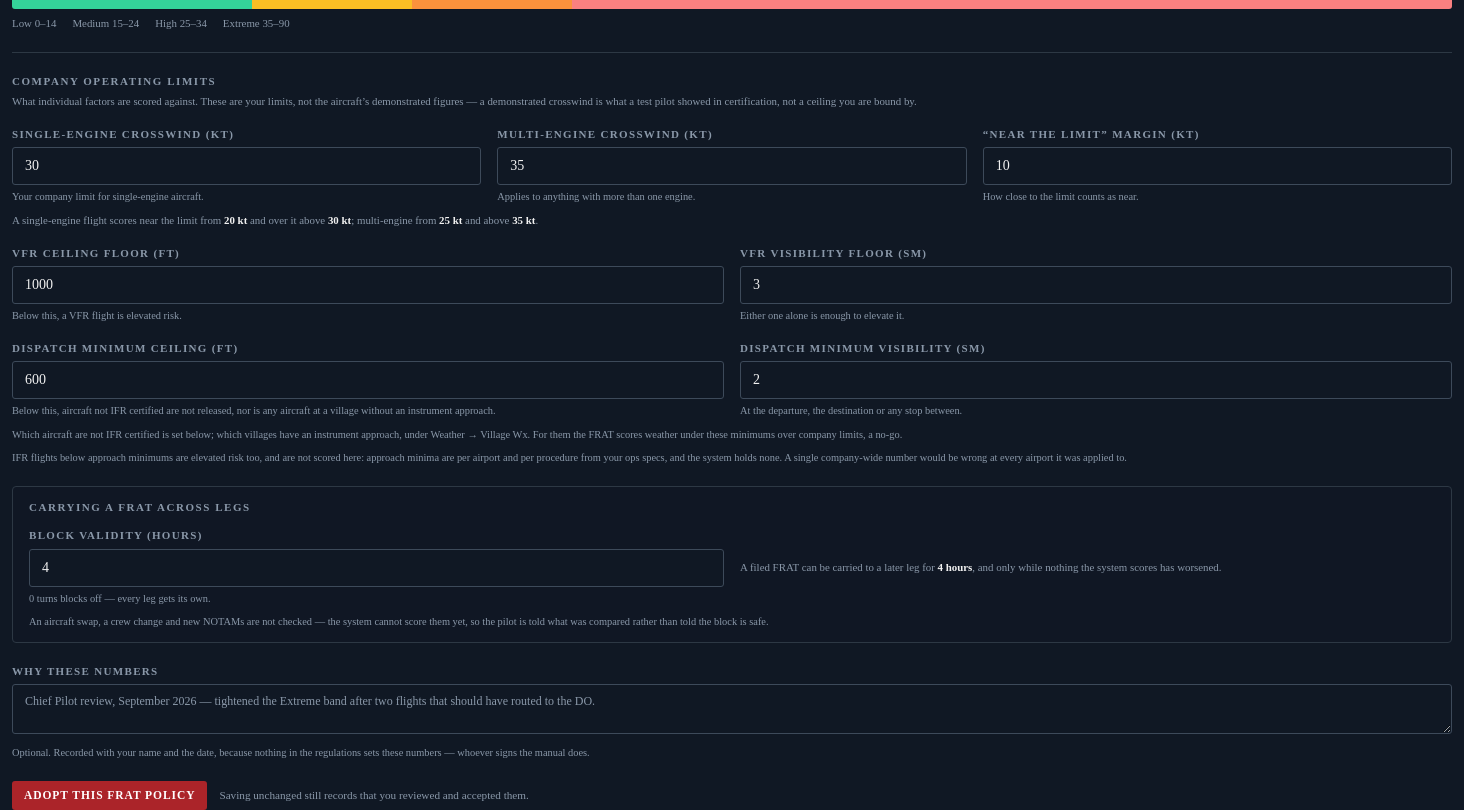
Scenario: saving › surfaces a refusal
(page scrolled)
Click the button "Adopt this FRAT policy" at {"x": 110, "y": 795}, box [12,781,207,809]
(page scrolled)
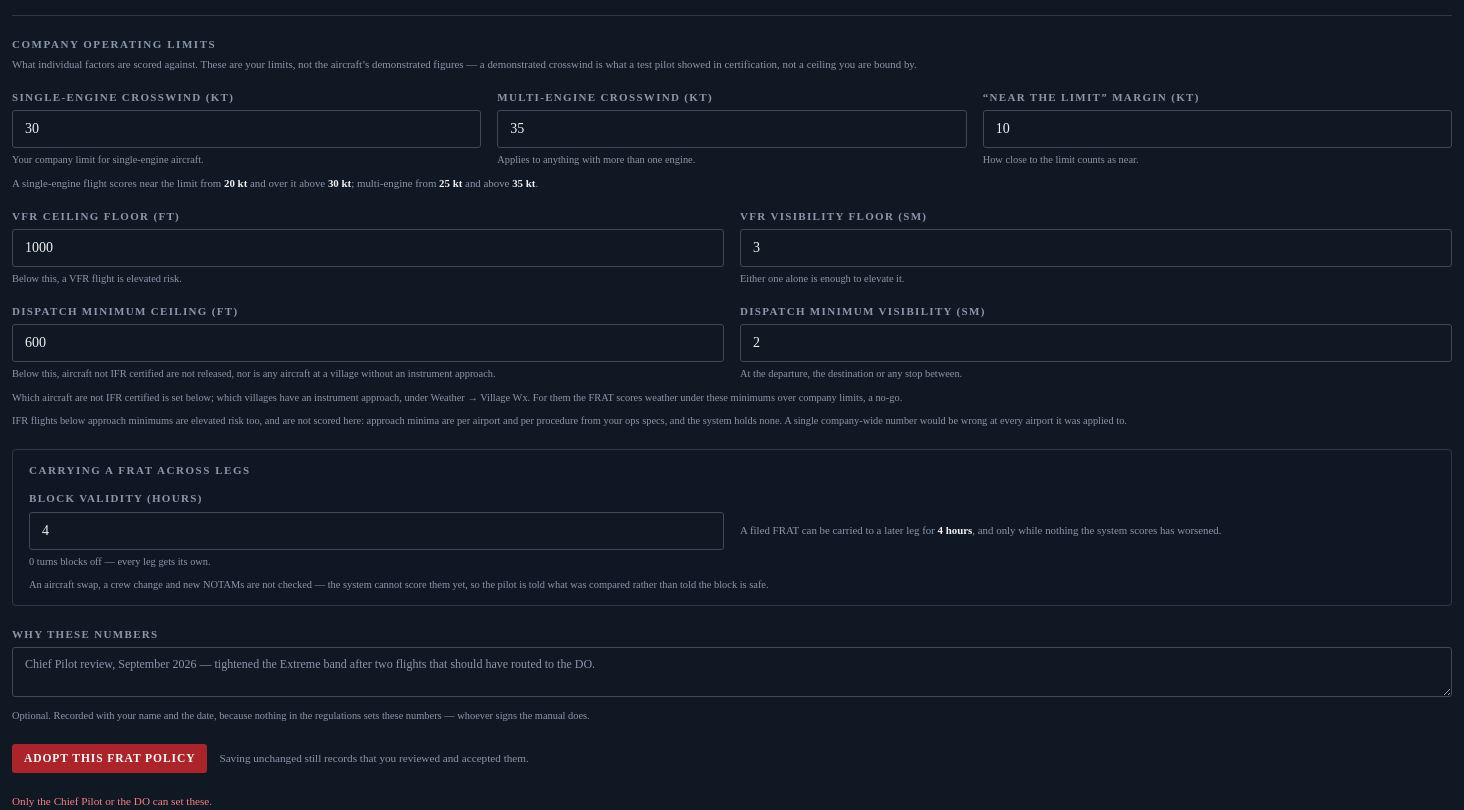
Expected: the message shows "Only the Chief Pilot", [12,795,212,807]
